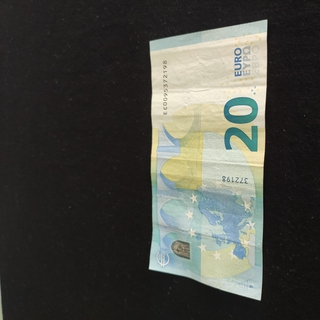20EUROBack: (148, 19, 269, 301)
